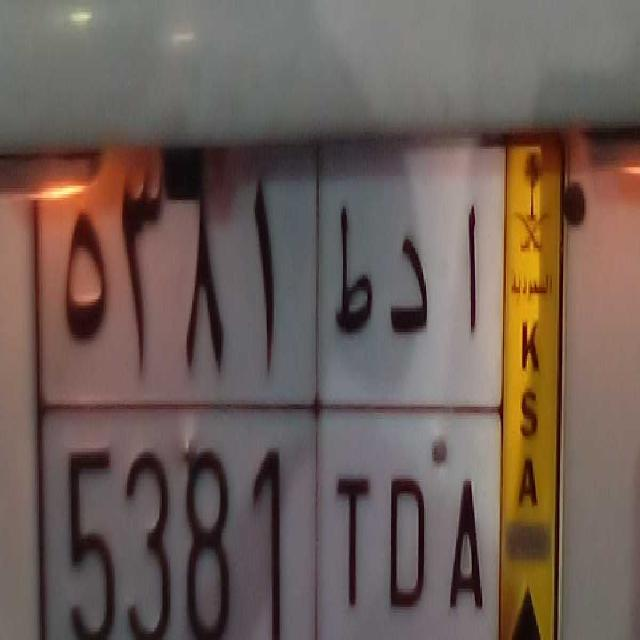license_plate: (36, 403, 502, 640)
